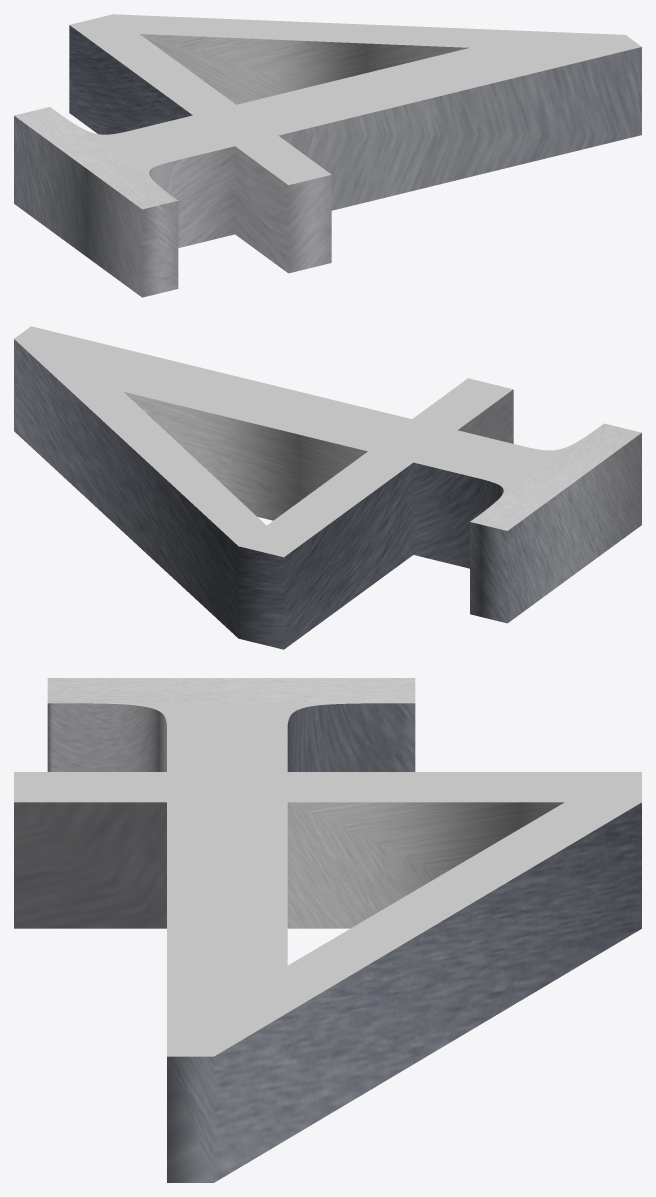
File: number4.obj
The picture shows the model from 3 angles, top to bottom: view 1: azimuth 30°, elevation 25°; view 2: azimuth 150°, elevation 25°; view 3: azimuth 270°, elevation 25°; orthographic projection. The views are drawn at different scales.
Parts seen in each view (by area): view 1: Text.026; view 2: Text.026; view 3: Text.026.
Part boxes in pixels (x1,y1,x2,y2): Text.026: (14,14,641,297); Text.026: (14,326,641,649); Text.026: (14,678,641,1182).
Size of the model in its own units: 1.03 by 0.1602 by 0.7216.
